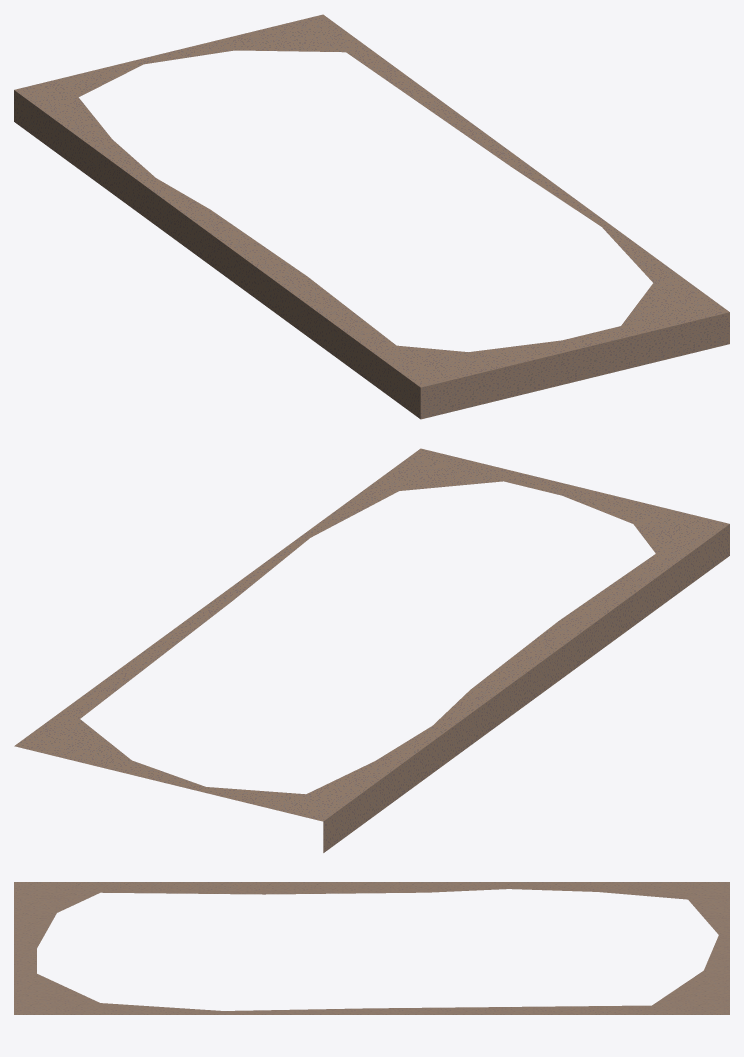
File: kd_stage_135ded_3_6_bounded.glb
3 renders of one model, top to bottom at view 1: azimuth 30°, elevation 25°; view 2: azimuth 150°, elevation 25°; view 3: azimuth 270°, elevation 25°, orthographic. The views are drawn at different scales.
Visible parts, largest first — view 1: kd_stage_135ded_3_6_bounded; view 2: kd_stage_135ded_3_6_bounded; view 3: kd_stage_135ded_3_6_bounded.
Part boxes in pixels (x1,y1,x2,y2): kd_stage_135ded_3_6_bounded: (14, 14, 729, 419); kd_stage_135ded_3_6_bounded: (14, 448, 729, 852); kd_stage_135ded_3_6_bounded: (14, 882, 729, 1014).
Bounding box in the file's own units: 0.8118 × 0.08 × 1.85.
Materials: 1 (1 with a texture image).
